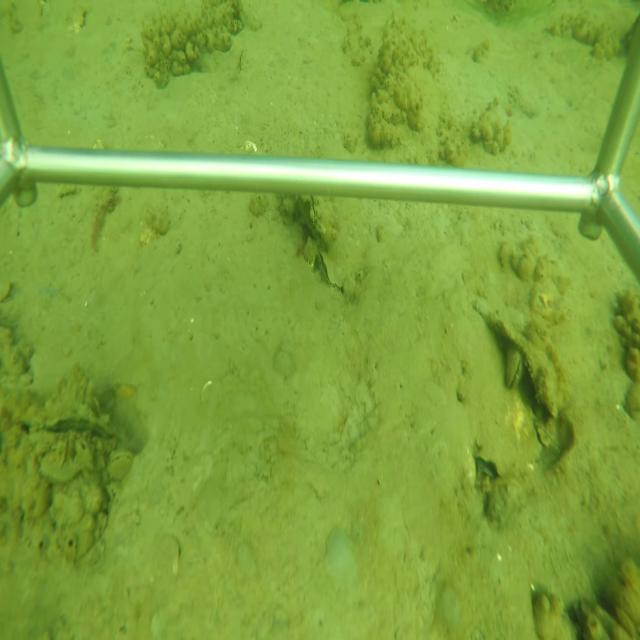Oyster-Closed: (18, 399, 148, 455), (318, 247, 350, 299)
